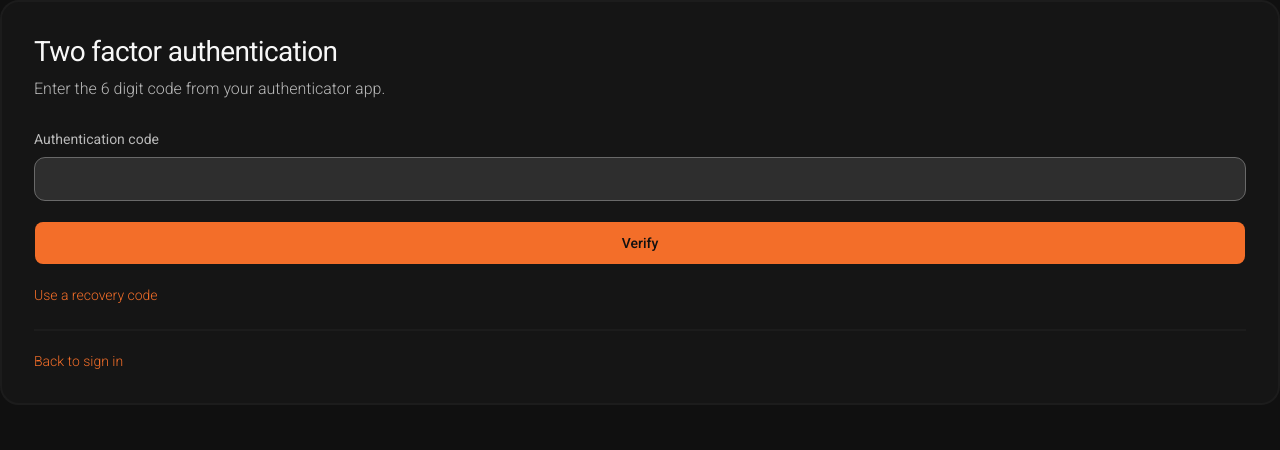
Scenario: TwoFactorChallengePage › asks for six digits before sending
Type "12" into the field labelled "Authentication code" at (640, 179), box [34,157,1246,201]
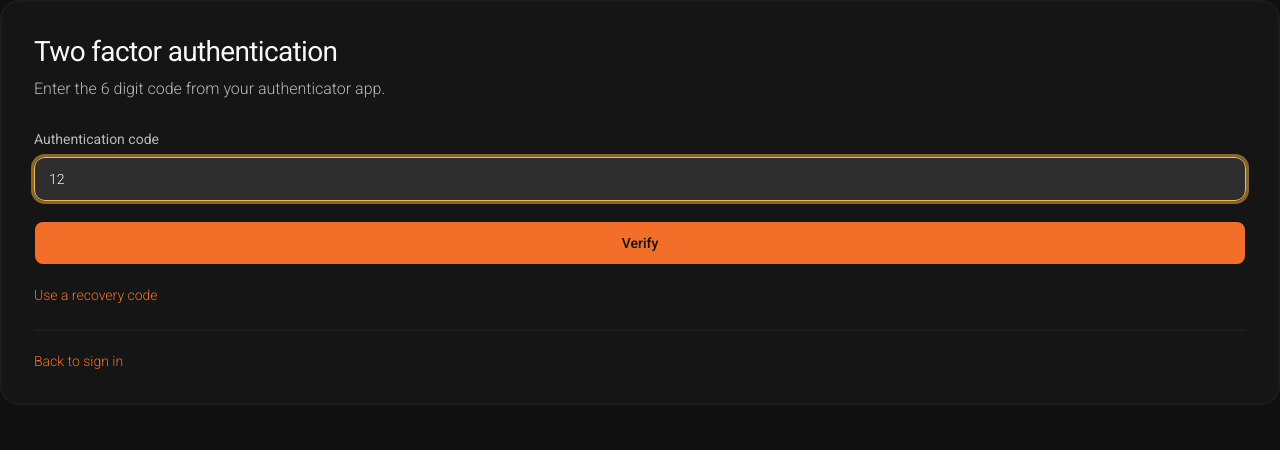
Click the button "Verify" at (640, 243), box [34,221,1246,265]
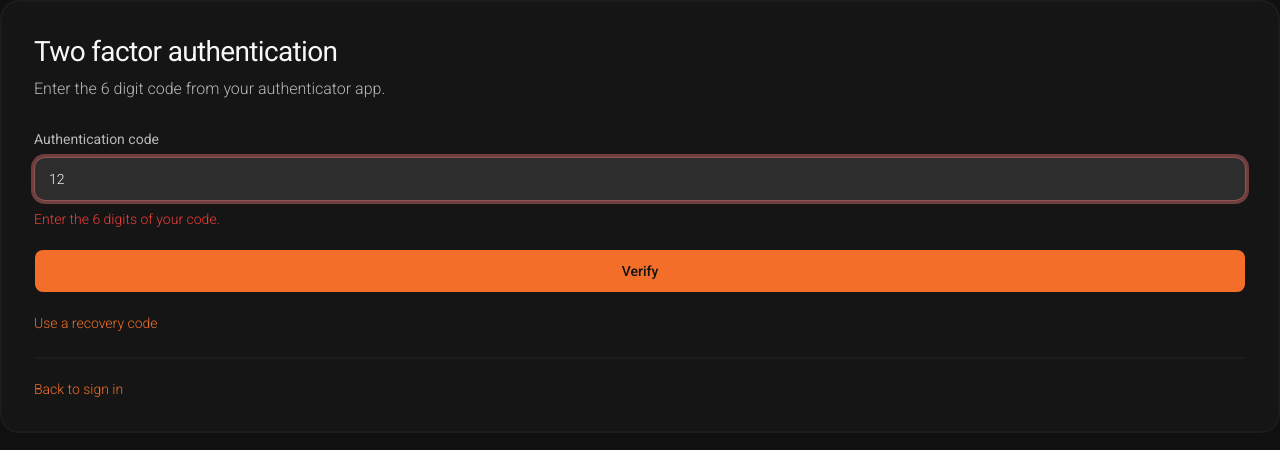
Expected: the text "Enter the 6 digits of your code." is shown, [34,211,220,227]
